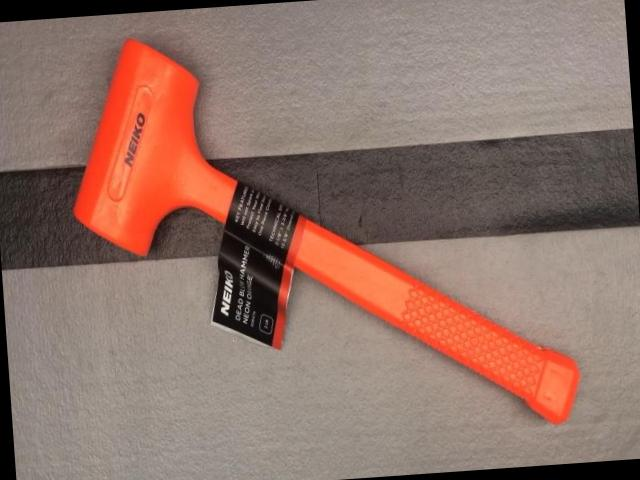hammer: (59, 11, 580, 455)
